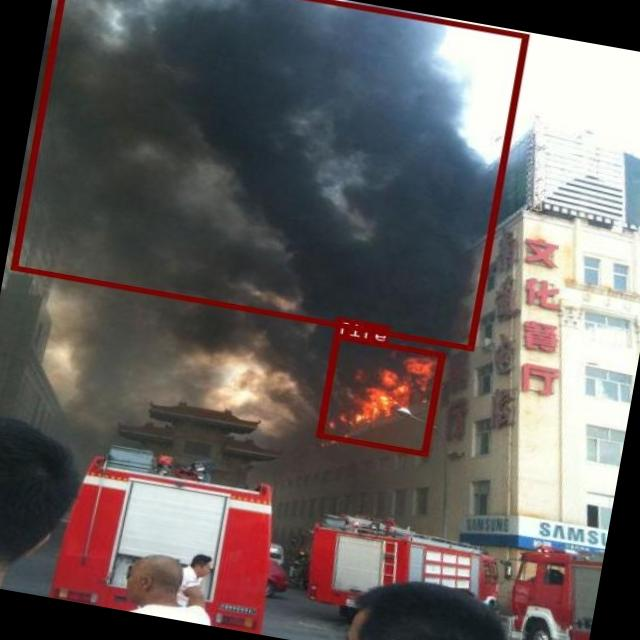fire: (9, 0, 528, 350), (316, 332, 444, 454)
